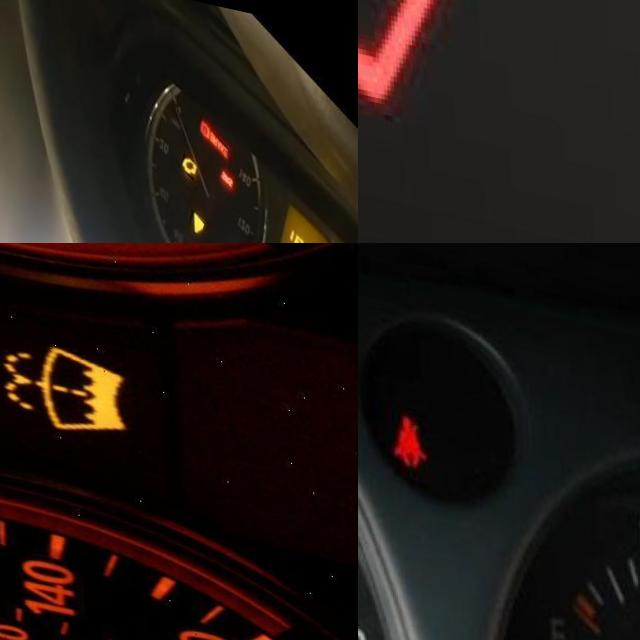Seat Belt: (388, 398, 425, 456)
Washer Fluid: (358, 0, 498, 124), (0, 321, 123, 426)
